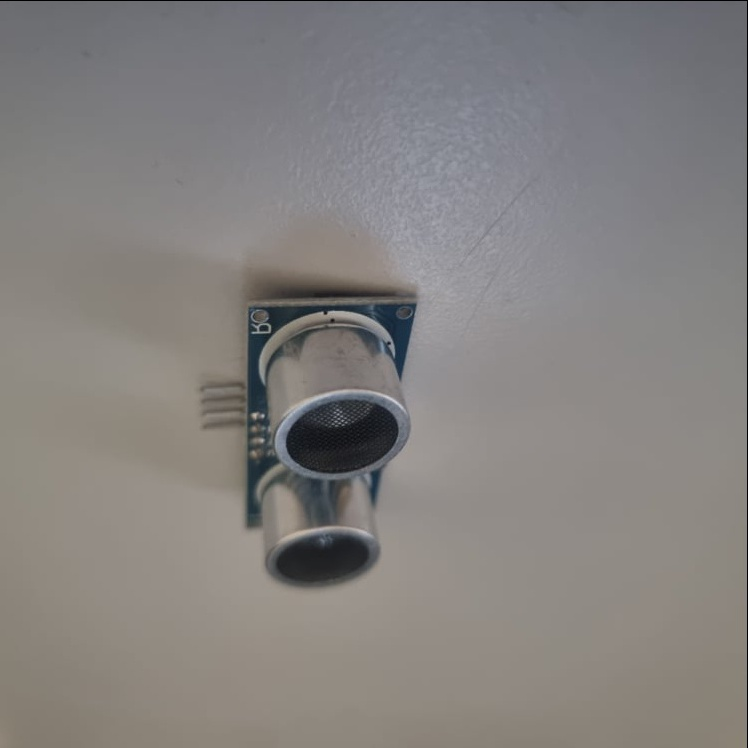SENSOR: (238, 295, 421, 590)
